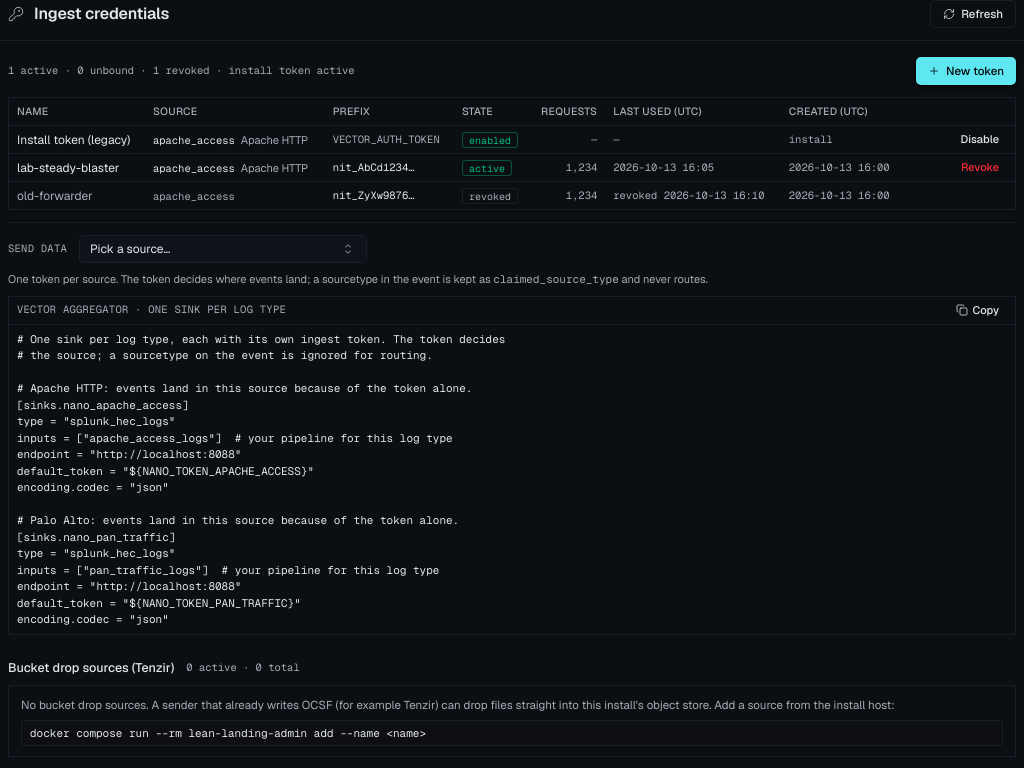
shows per-source snippets and a Vector aggregator with one sink and token per log type
The width and height of the screenshot is (1024, 768).
Press Enter in the dropdown named "Send data to", box [79, 235, 367, 263]
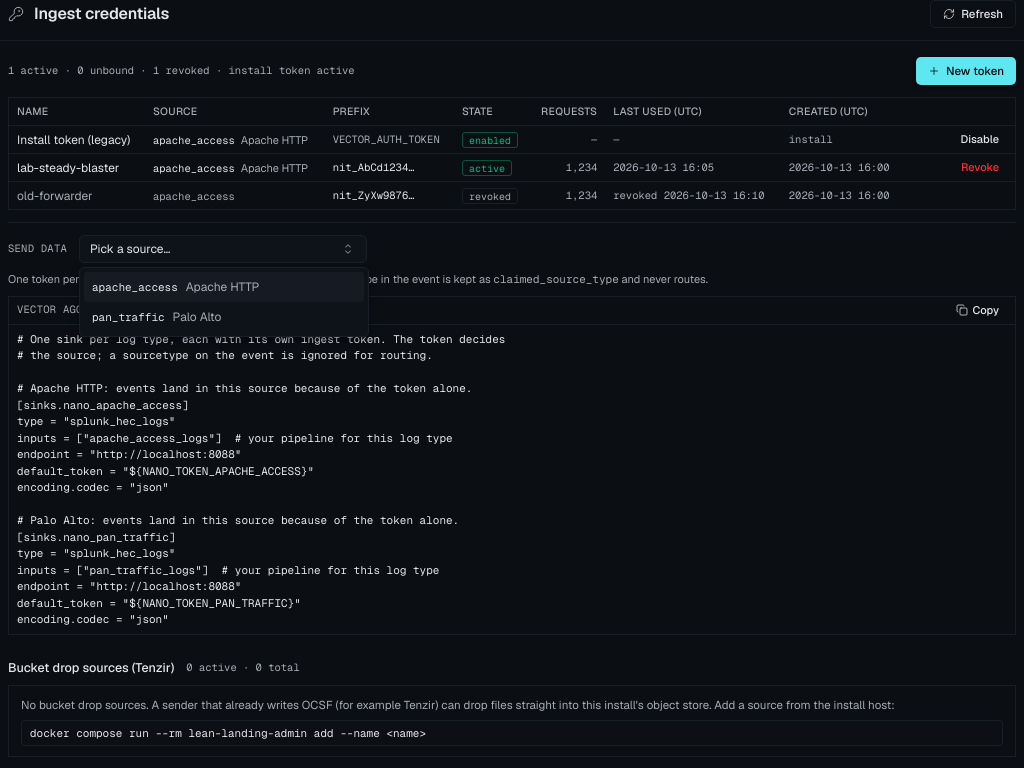
Press Enter in the 1st option, box [84, 272, 364, 302]
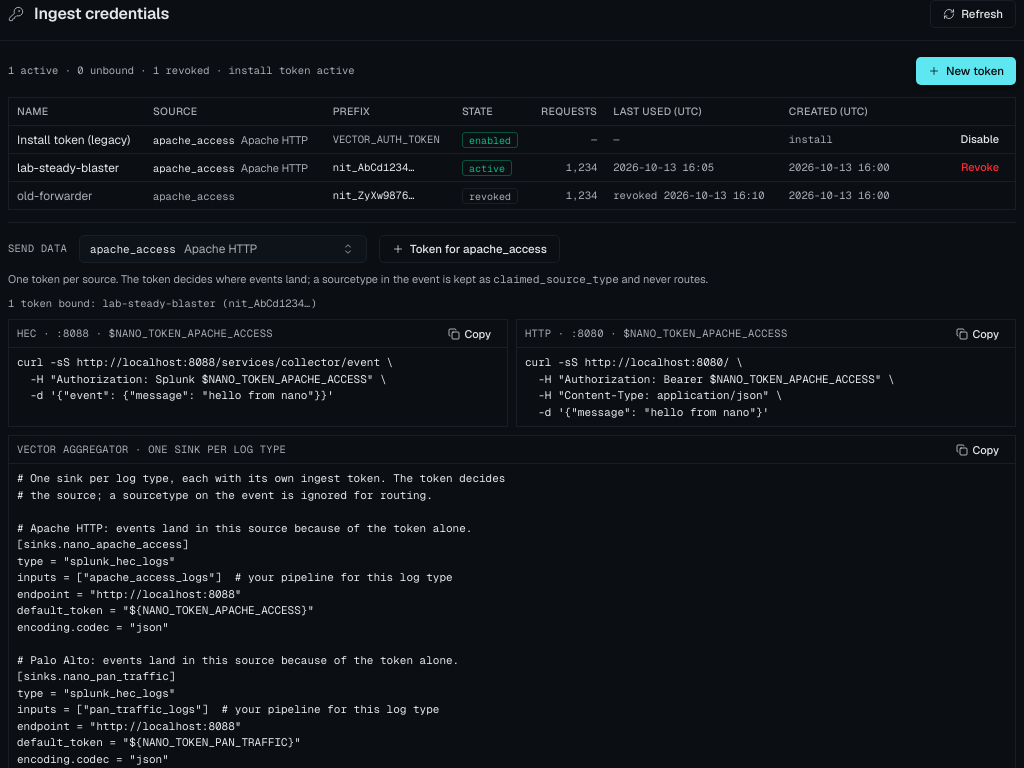
Now the dropdown named "Send data to" shows "apache_access", box [79, 235, 367, 263]
Now the text with test id "send-data-tokens" shows "lab-steady-blaster (nit_AbCd1234…)", box [8, 296, 317, 310]
Now the text with test id "snippet-hec" shows ":8088/services/collector/event", box [17, 355, 393, 402]
Click the button "Token for apache_access".
click(470, 249)  # box [379, 235, 560, 263]
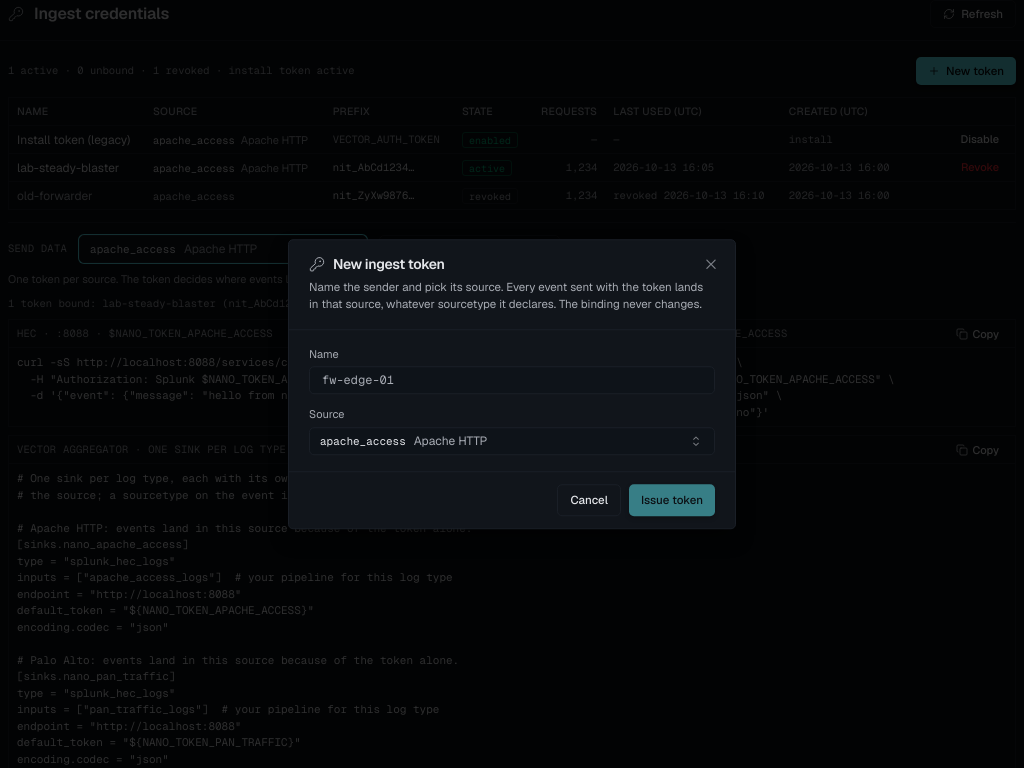
Now the dropdown named "Source" shows "apache_access", box [309, 427, 715, 455]
